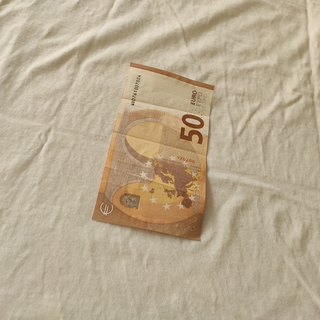50EUROBack: (91, 60, 215, 243)
